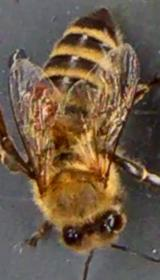varroa_mite: (25, 98, 58, 128)
